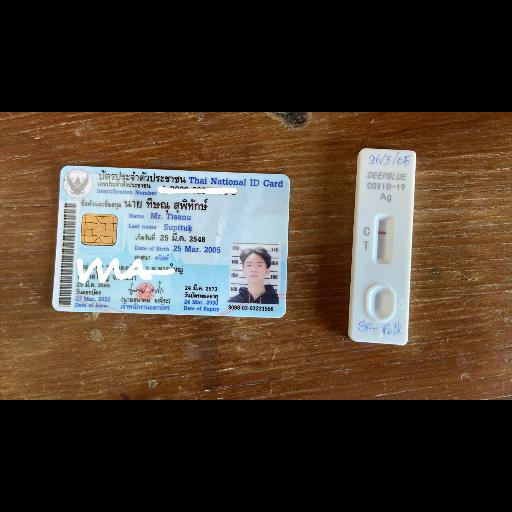Neg: (352, 148, 418, 345)
